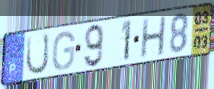1: (120, 18, 133, 64)
8: (169, 11, 190, 55)
9: (83, 24, 105, 70)
G: (50, 30, 76, 72)
H: (139, 14, 168, 60)
U: (24, 32, 51, 77)
